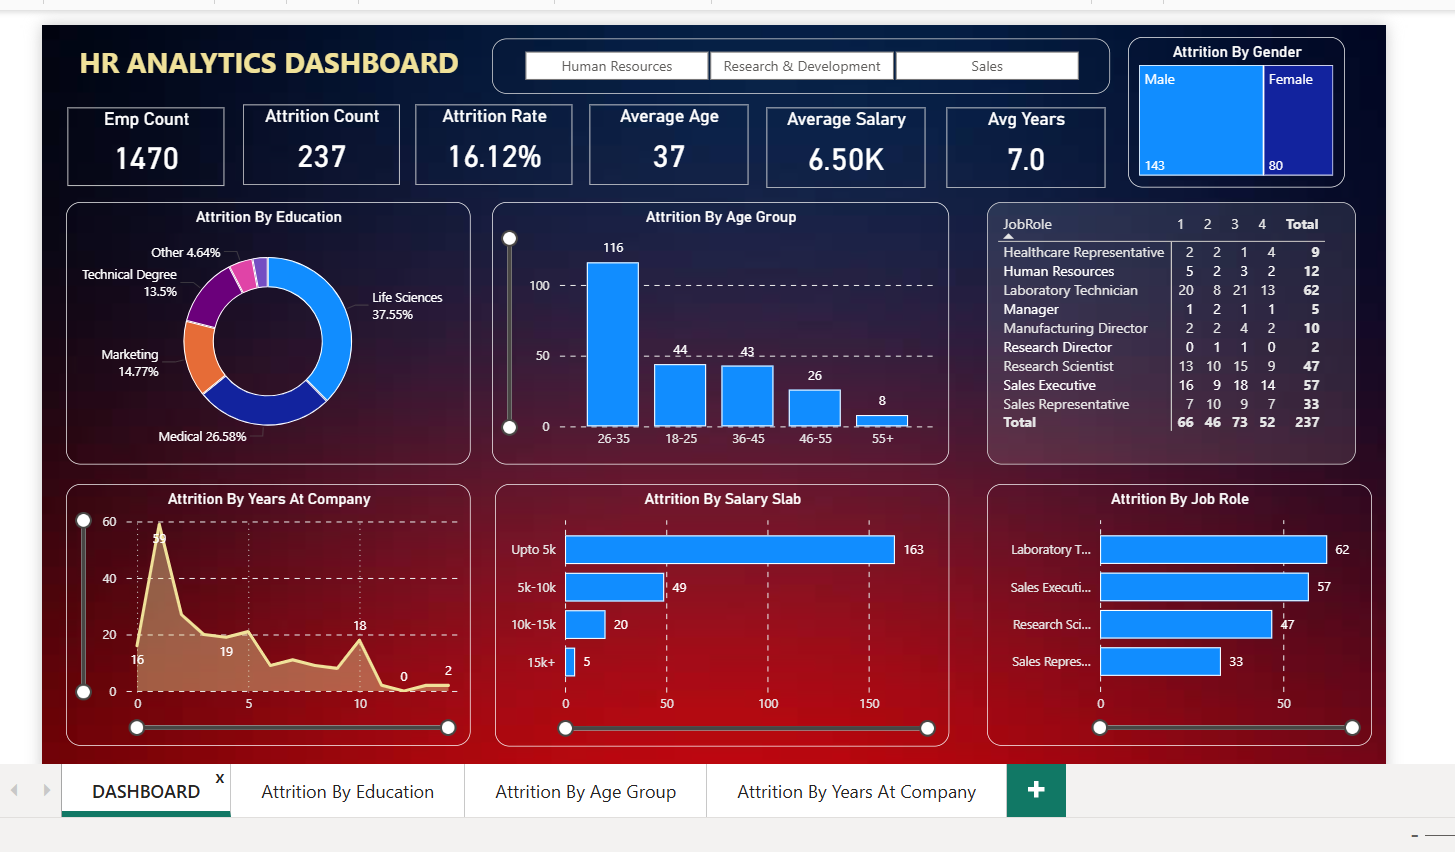

The dashboard page shown, as its layout file describes it:
{"tool":"powerbi","page":{"name":"DASHBOARD","canvas":[1280,720],"ordinal":0},"visuals":[{"type":"card","title":"Emp Count","fields":{"Values":["CountNonNull(HR_Analytics.EmpID)"]},"box":[23.9,77.9,149.5,74.8],"z":0},{"type":"card","title":"Attrition Count","fields":{"Values":["Sum(HR_Analytics.Attrition Count)"]},"box":[190.9,76.3,149.5,76.3],"z":1000},{"type":"card","title":"Attrition Rate","fields":{"Values":["HR_Analytics.AttritionRate"]},"box":[356.3,76.3,149.5,76.3],"z":2000},{"type":"card","title":"Average Age","fields":{"Values":["Avg(HR_Analytics.Age)"]},"box":[521.7,76.3,151.1,76.3],"z":3000},{"type":"card","title":"Average Salary","fields":{"Values":["Avg(HR_Analytics.MonthlyIncome)"]},"box":[690.3,77.9,151.1,76.3],"z":4000},{"type":"card","title":"Avg Years","fields":{"Values":["Avg(HR_Analytics.YearsAtCompany)"]},"box":[862.1,77.9,151.1,76.3],"z":5000},{"type":"donutChart","title":"Attrition By Education","fields":{"Category":["HR_Analytics.EducationField"],"Y":["Sum(HR_Analytics.Attrition Count)"]},"box":[23.3,168.3,385,250],"z":6000},{"type":"clusteredColumnChart","title":"Attrition By Age Group","fields":{"Y":["Sum(HR_Analytics.Attrition Count)"],"Category":["HR_Analytics.AgeGroup"]},"box":[428.3,168.3,435,250],"z":7000},{"type":"pivotTable","fields":{"Rows":["HR_Analytics.JobRole"],"Values":["Sum(HR_Analytics.Attrition Count)"],"Columns":["HR_Analytics.JobSatisfaction"]},"box":[900.3,168.6,351.5,249.7],"z":8000},{"type":"barChart","title":"Attrition By Salary Slab","fields":{"Category":["HR_Analytics.SalarySlab"],"Y":["Sum(HR_Analytics.Attrition Count)"]},"box":[431.4,437.1,432.9,250],"z":9000},{"type":"barChart","title":"Attrition By Job Role","fields":{"Y":["Sum(HR_Analytics.Attrition Count)"],"Category":["HR_Analytics.JobRole"]},"box":[899.5,436.5,366.6,249.5],"z":10000},{"type":"areaChart","title":"Attrition By Years At Company","fields":{"Category":["HR_Analytics.YearsAtCompany"],"Y":["Sum(HR_Analytics.Attrition Count)"]},"box":[22.7,436.5,385.5,249.5],"z":11000},{"type":"treemap","title":"Attrition By Gender","fields":{"Group":["HR_Analytics.Gender"],"Values":["Sum(HR_Analytics.Attrition Count)"]},"box":[1033.9,11.1,206.8,143.2],"z":12000},{"type":"slicer","fields":{"Values":["HR_Analytics.Department"]},"box":[427.9,12.7,588.5,52.5],"z":13000},{"type":"textbox","box":[22.3,11.1,386.5,54.1],"z":14000}]}

Visuals, with their boxes on the page's 1280x720 design canvas (x1, y1, x2, y2). These are canvas units, not pixel positions in the 1455x852 screenshot, which may show the page scaled, cropped or inside an application window:
"Emp Count" card: <bbox>24, 78, 173, 153</bbox>
"Attrition Count" card: <bbox>191, 76, 340, 153</bbox>
"Attrition Rate" card: <bbox>356, 76, 506, 153</bbox>
"Average Age" card: <bbox>522, 76, 673, 153</bbox>
"Average Salary" card: <bbox>690, 78, 841, 154</bbox>
"Avg Years" card: <bbox>862, 78, 1013, 154</bbox>
"Attrition By Education" donutChart: <bbox>23, 168, 408, 418</bbox>
"Attrition By Age Group" clusteredColumnChart: <bbox>428, 168, 863, 418</bbox>
pivotTable - HR_Analytics.JobRole x Sum(HR_Analytics.Attrition Count): <bbox>900, 169, 1252, 418</bbox>
"Attrition By Salary Slab" barChart: <bbox>431, 437, 864, 687</bbox>
"Attrition By Job Role" barChart: <bbox>900, 436, 1266, 686</bbox>
"Attrition By Years At Company" areaChart: <bbox>23, 436, 408, 686</bbox>
"Attrition By Gender" treemap: <bbox>1034, 11, 1241, 154</bbox>
slicer - HR_Analytics.Department: <bbox>428, 13, 1016, 65</bbox>
textbox: <bbox>22, 11, 409, 65</bbox>
